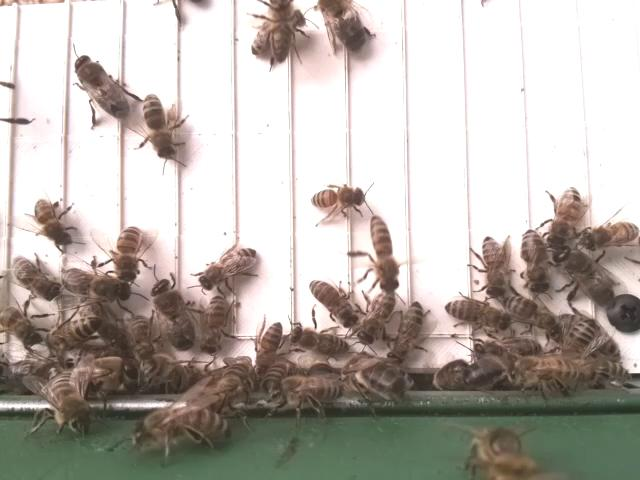Drone: (73, 52, 133, 121), (554, 245, 616, 309), (150, 276, 197, 354), (319, 0, 370, 57), (60, 265, 134, 304)
Worker: (198, 246, 262, 292), (385, 299, 426, 364), (368, 214, 400, 296), (443, 295, 511, 333), (308, 277, 355, 331), (141, 90, 177, 160), (42, 313, 105, 352), (520, 225, 552, 301), (548, 183, 584, 250), (354, 289, 396, 344), (197, 293, 234, 355), (8, 253, 56, 300), (30, 195, 73, 246), (478, 231, 510, 299), (291, 323, 348, 359), (253, 320, 287, 374), (583, 219, 640, 251), (269, 0, 296, 65), (308, 185, 367, 214), (114, 225, 142, 283)
